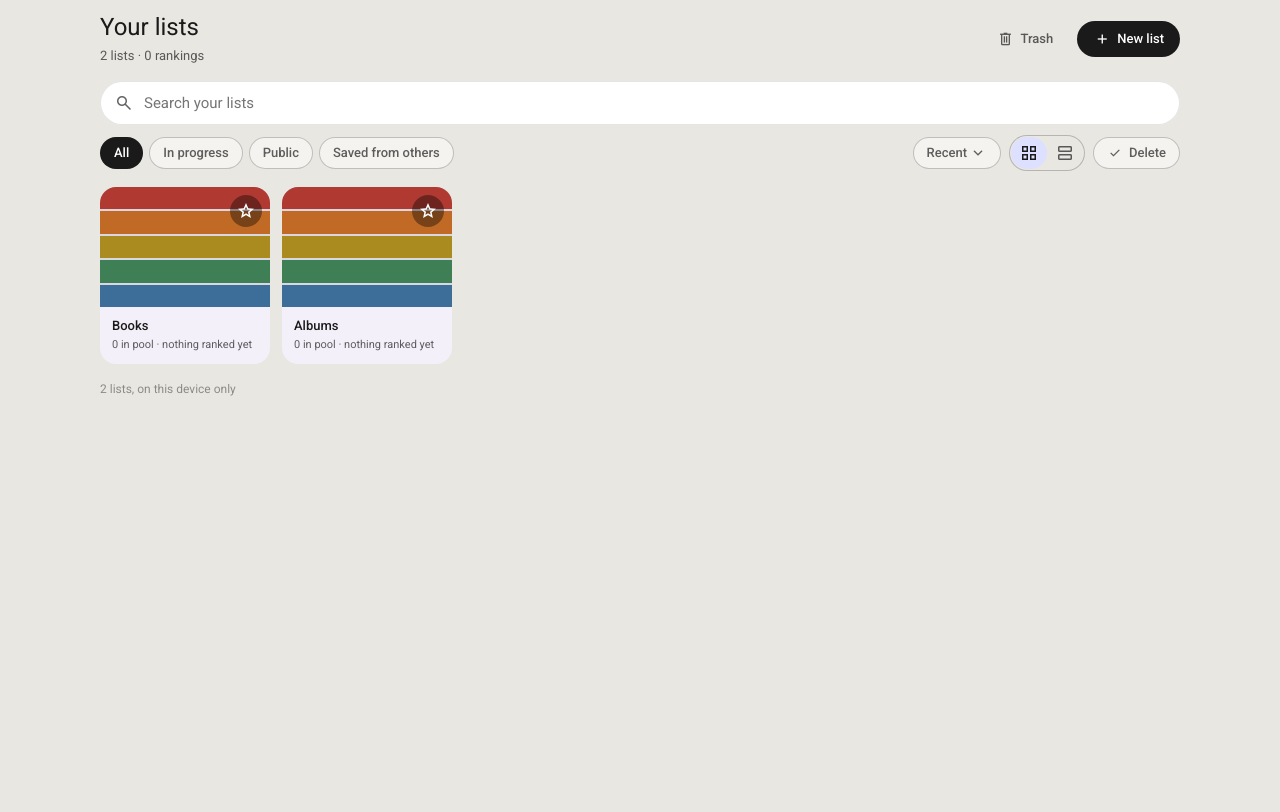
BoardsPage › stars a board to the top under its own heading, and unstars it
Expected: the heading "Favourites" is not shown
What coordinates should you click on to do the following:
click the button named "Add Albums to favourites"
I would click on:
 (428, 211)
Its box is [412,195,444,227].
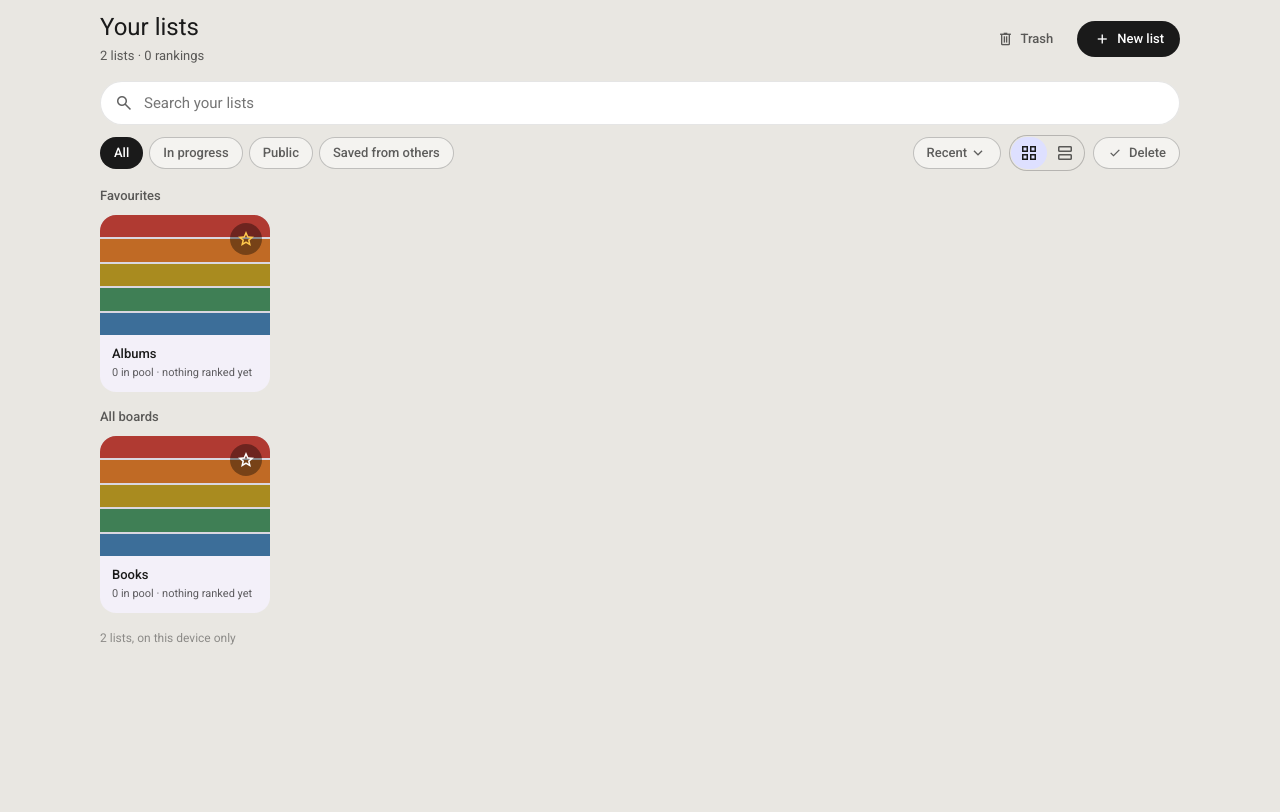
Now the text "Albums" is shown, box [112,346,156,361]
Now the text "Books" is shown, box [112,567,148,582]
What coordinates should you click on to do the following:
click the button named "Remove Albums from favourites"
I would click on:
 (246, 239)
Its box is [230,223,262,255].
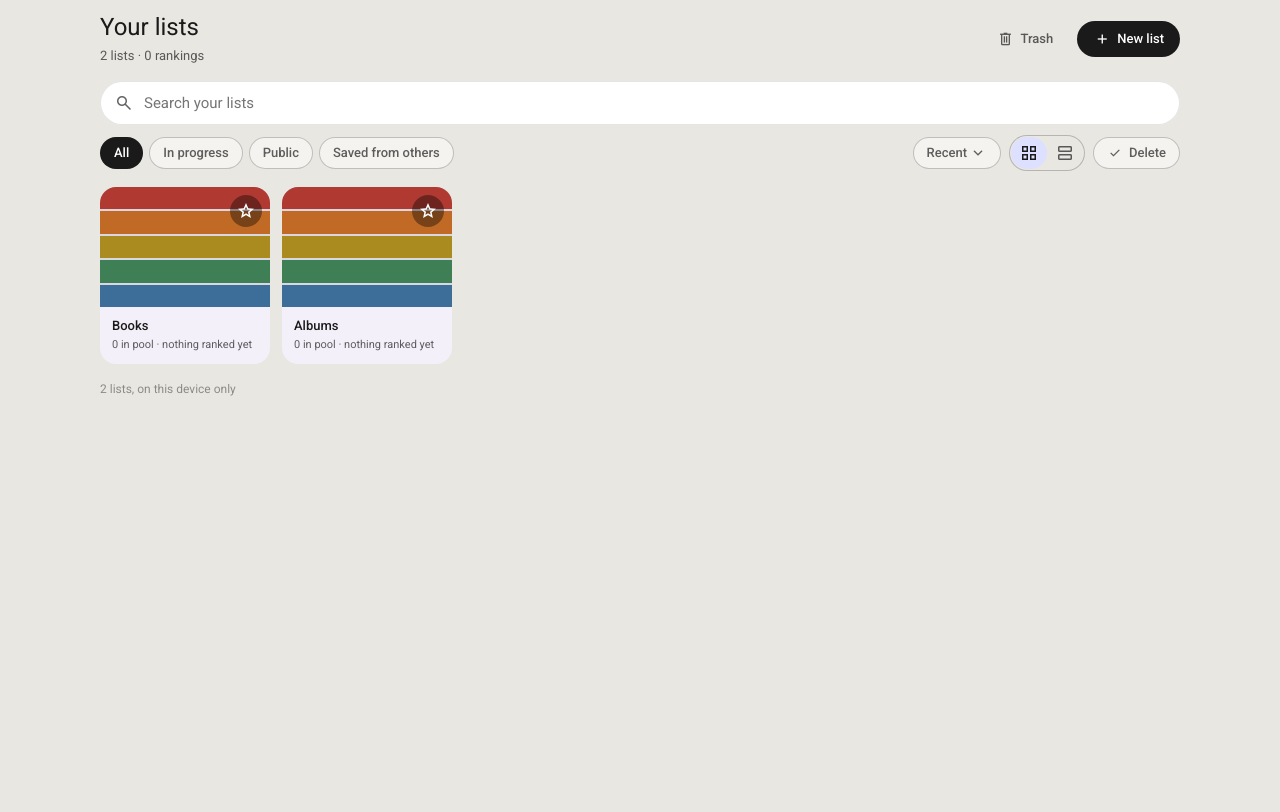
Now the heading "Favourites" is gone
